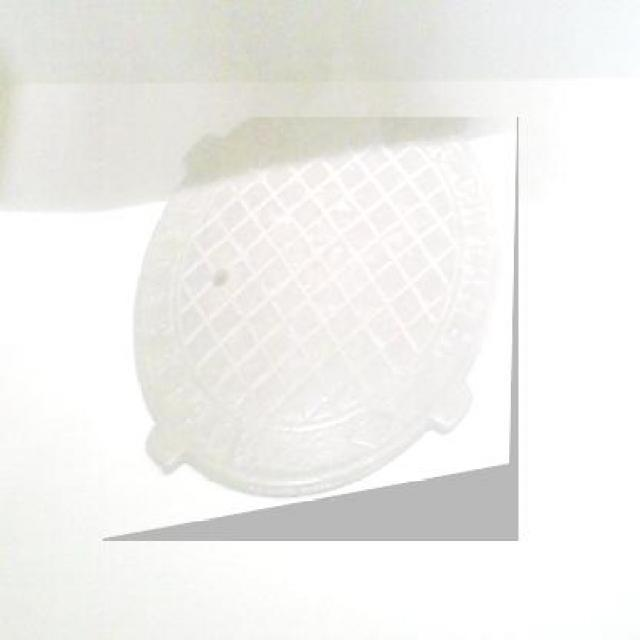Manhole: (103, 117, 519, 540)
